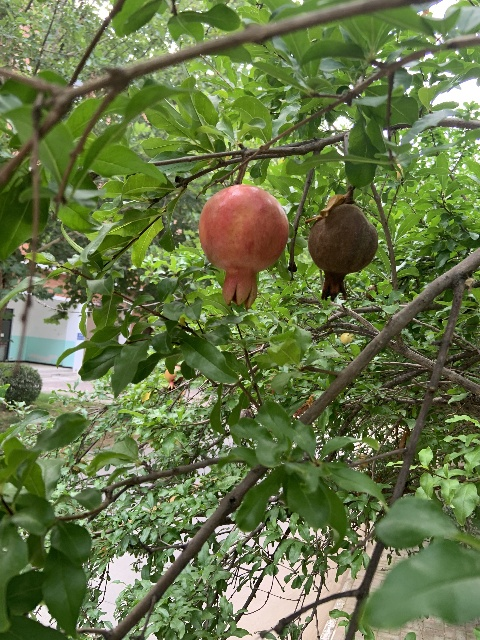ripe: (198, 184, 288, 309)
